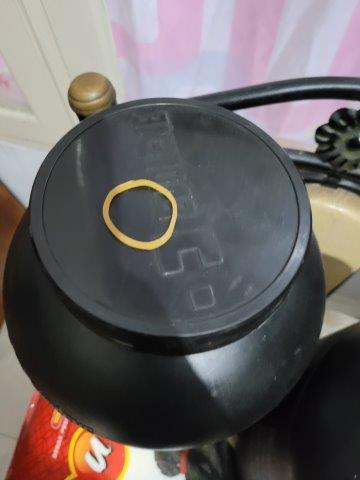karet: (101, 177, 178, 251)
